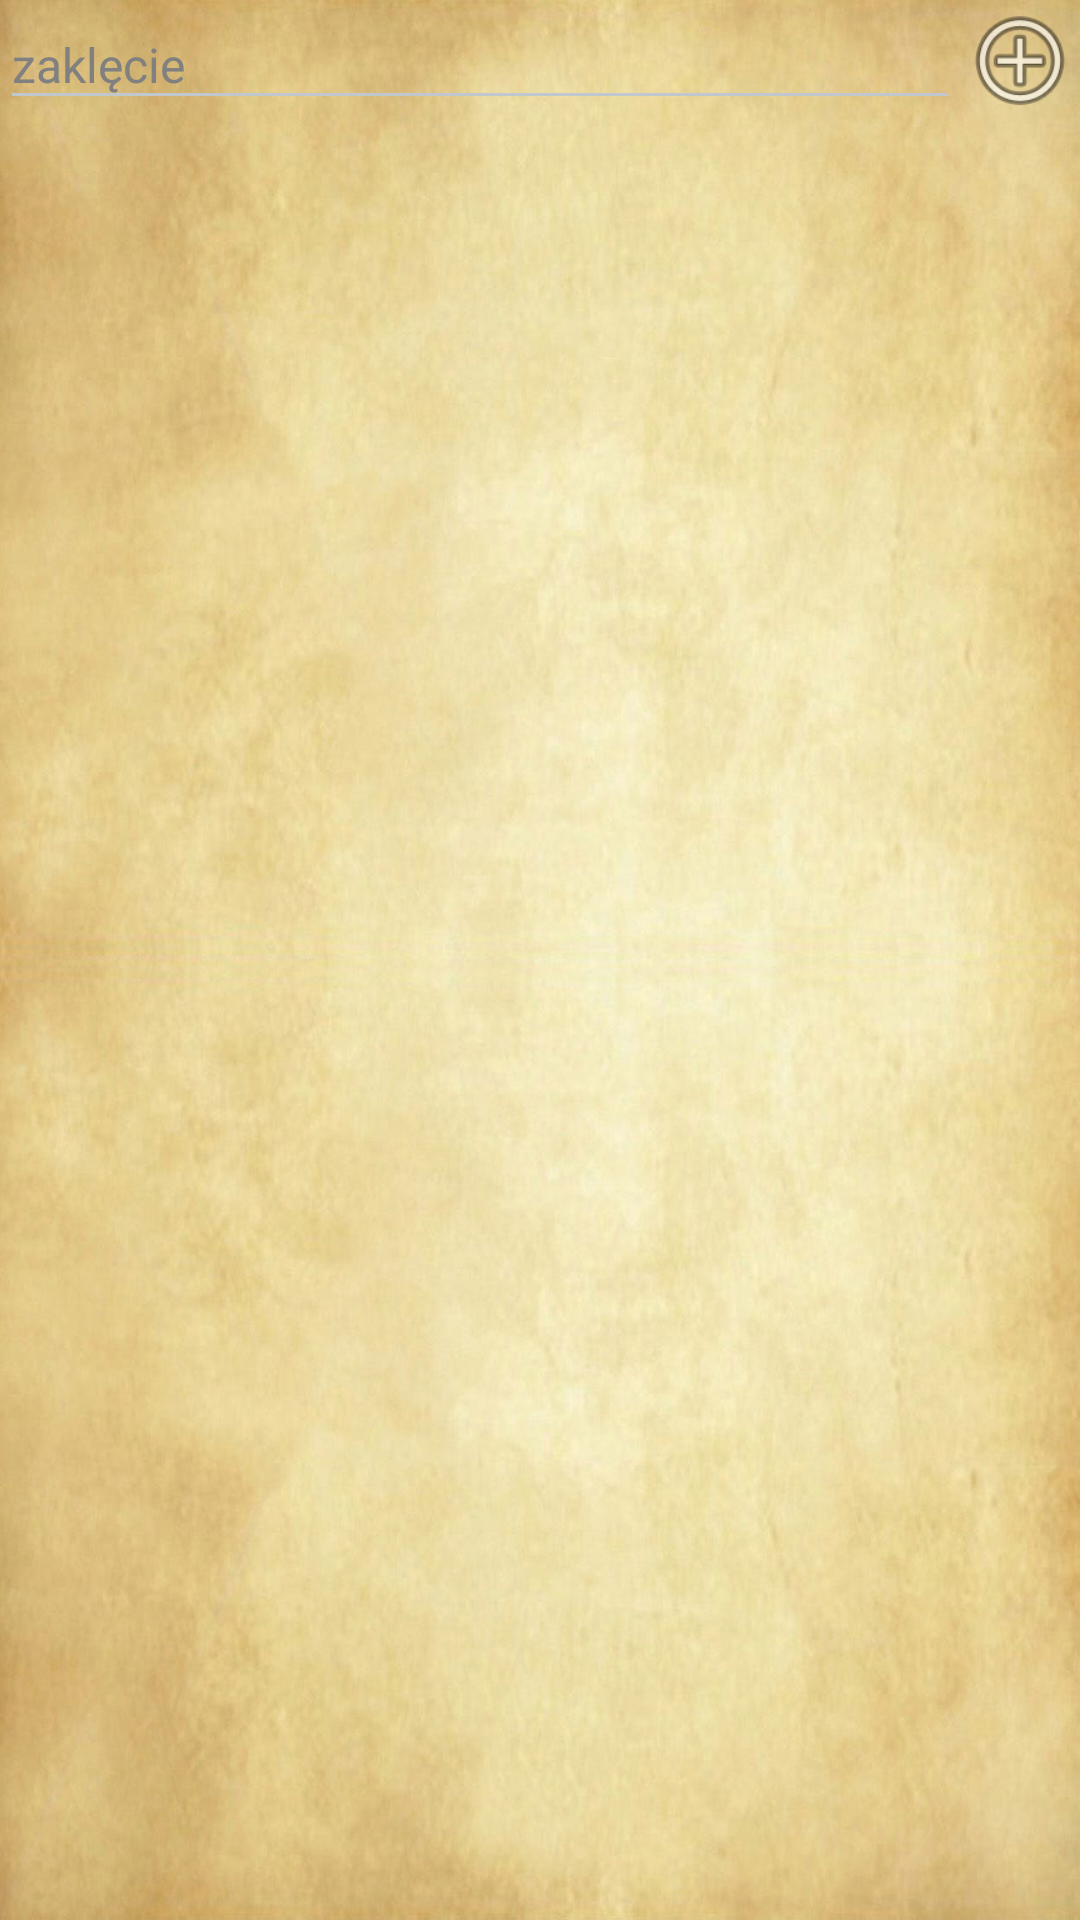

Icon click points for this 1080w x 1920h phone screenshot, format point (x, y):
add: point (1020, 52)
